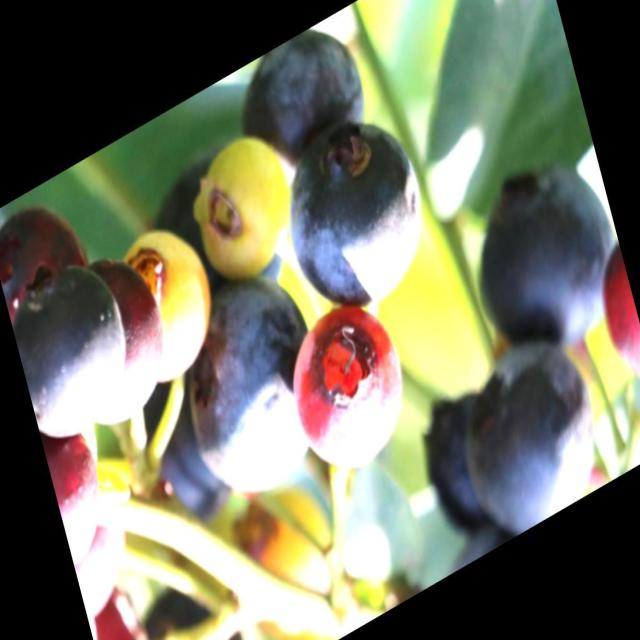blueberry: (164, 253, 339, 522), (273, 92, 446, 336), (461, 132, 630, 379), (443, 315, 613, 546), (223, 4, 381, 201), (6, 248, 140, 456), (58, 230, 173, 436)
blueberry-halfripe: (280, 278, 420, 491), (41, 417, 114, 565), (582, 232, 640, 401)
blueberry-unripe: (180, 114, 306, 300), (115, 204, 226, 394)
